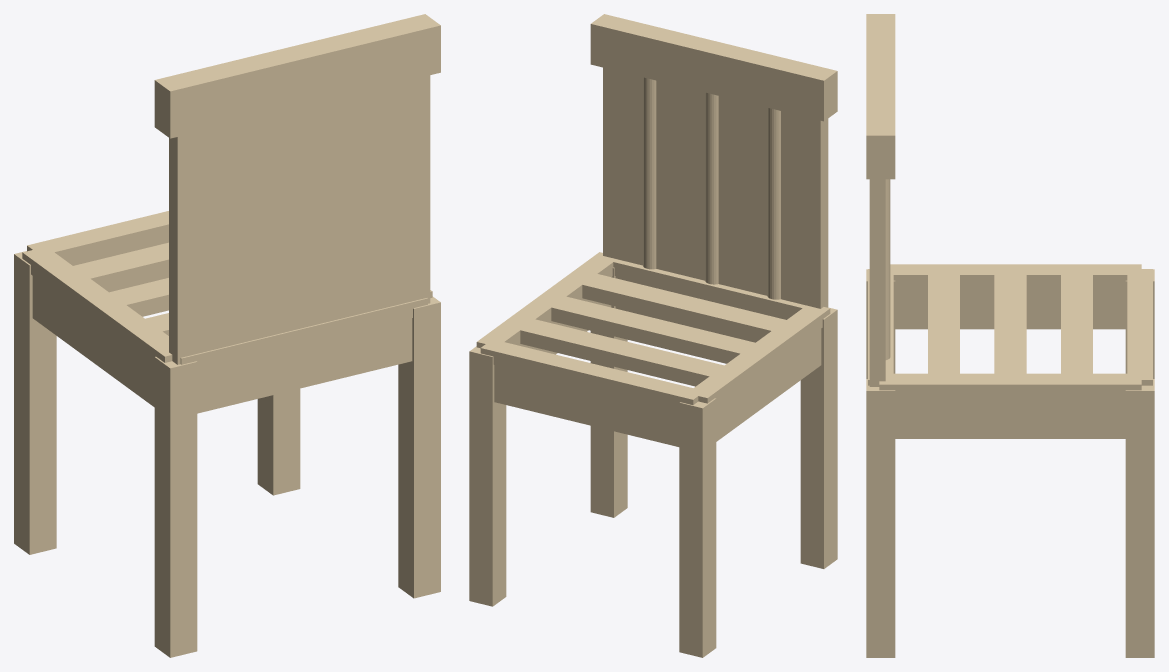
File: chair.glb
3 views of the same model, side by side, from view 1: azimuth 30°, elevation 25°; view 2: azimuth 150°, elevation 25°; view 3: azimuth 270°, elevation 25° (orthographic). The views are drawn at different scales.
Visible parts, largest first — view 1: chair; view 2: chair; view 3: chair.
Boxes of the visible parts, x1,y1,x2,y2 form: chair: (14,14,440,657); chair: (469,14,837,657); chair: (866,14,1154,657).
Bounding box in the file's own units: 0.45 × 0.9 × 0.45.
